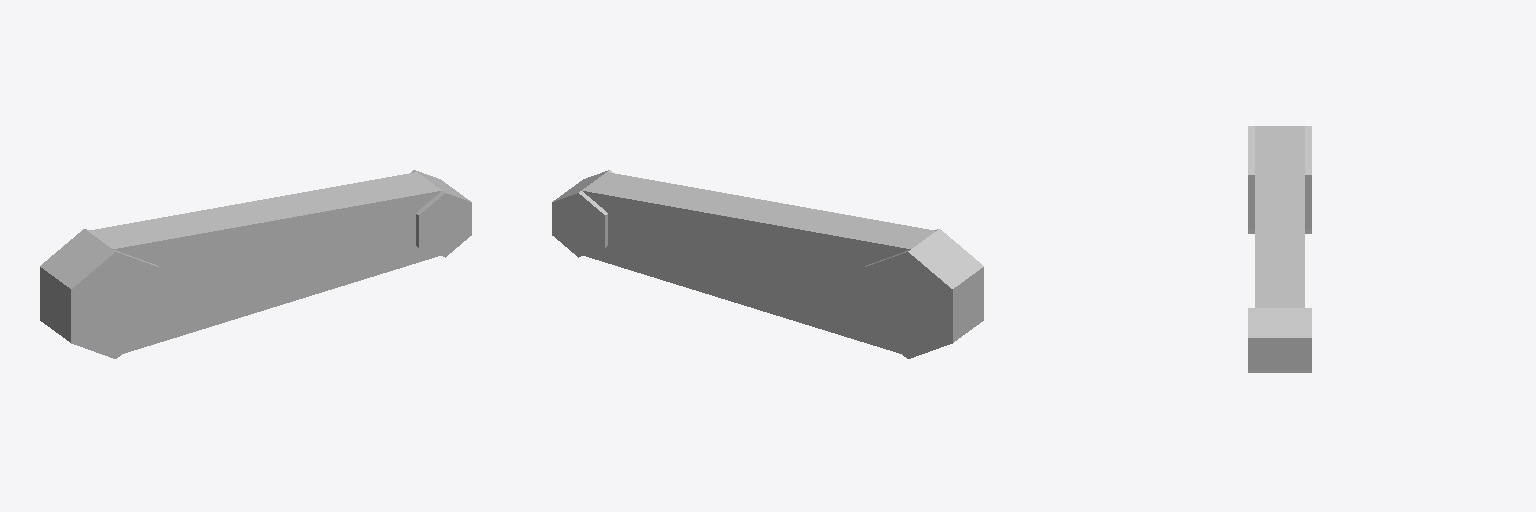
The model's file is wrist.obj.
3 views of the same model, side by side, from view 1: azimuth 30°, elevation 25°; view 2: azimuth 150°, elevation 25°; view 3: azimuth 270°, elevation 25° (orthographic).
Visible parts, largest first — view 1: Mesh1 Group1 Model; view 2: Mesh1 Group1 Model; view 3: Mesh1 Group1 Model.
Part boxes in pixels (x1,y1,x2,y2): Mesh1 Group1 Model: (40, 170, 471, 358); Mesh1 Group1 Model: (552, 170, 983, 358); Mesh1 Group1 Model: (1248, 126, 1311, 372).
Bounding box in the file's own units: 14.37 × 3.69 × 1.97.